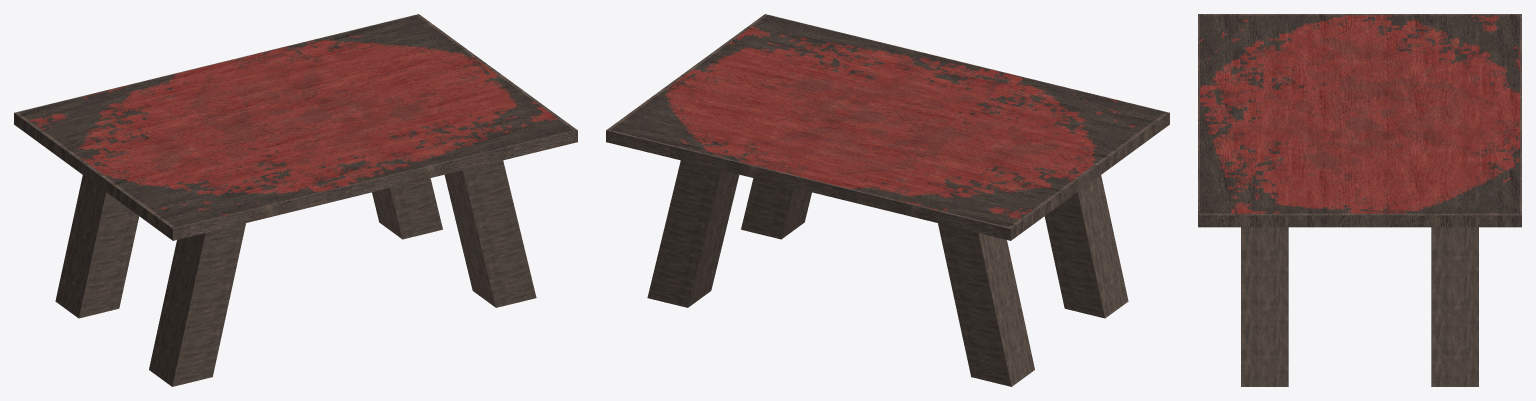
File: torture_table.glb
The picture shows the model from 3 angles, left to right: view 1: azimuth 30°, elevation 25°; view 2: azimuth 150°, elevation 25°; view 3: azimuth 270°, elevation 25°; orthographic projection.
Parts seen in each view (by area): view 1: Object_3, Object_2; view 2: Object_3, Object_2; view 3: Object_3, Object_2.
Part boxes in pixels (<box>): Object_3: <box>14,14,577,386</box>; Object_2: <box>19,15,572,226</box>; Object_3: <box>606,14,1169,386</box>; Object_2: <box>611,15,1164,226</box>; Object_3: <box>1198,14,1521,386</box>; Object_2: <box>1200,15,1519,213</box>.
Bounding box in the file's own units: 25 × 10.53 × 17.
2 materials, 2 textured.
